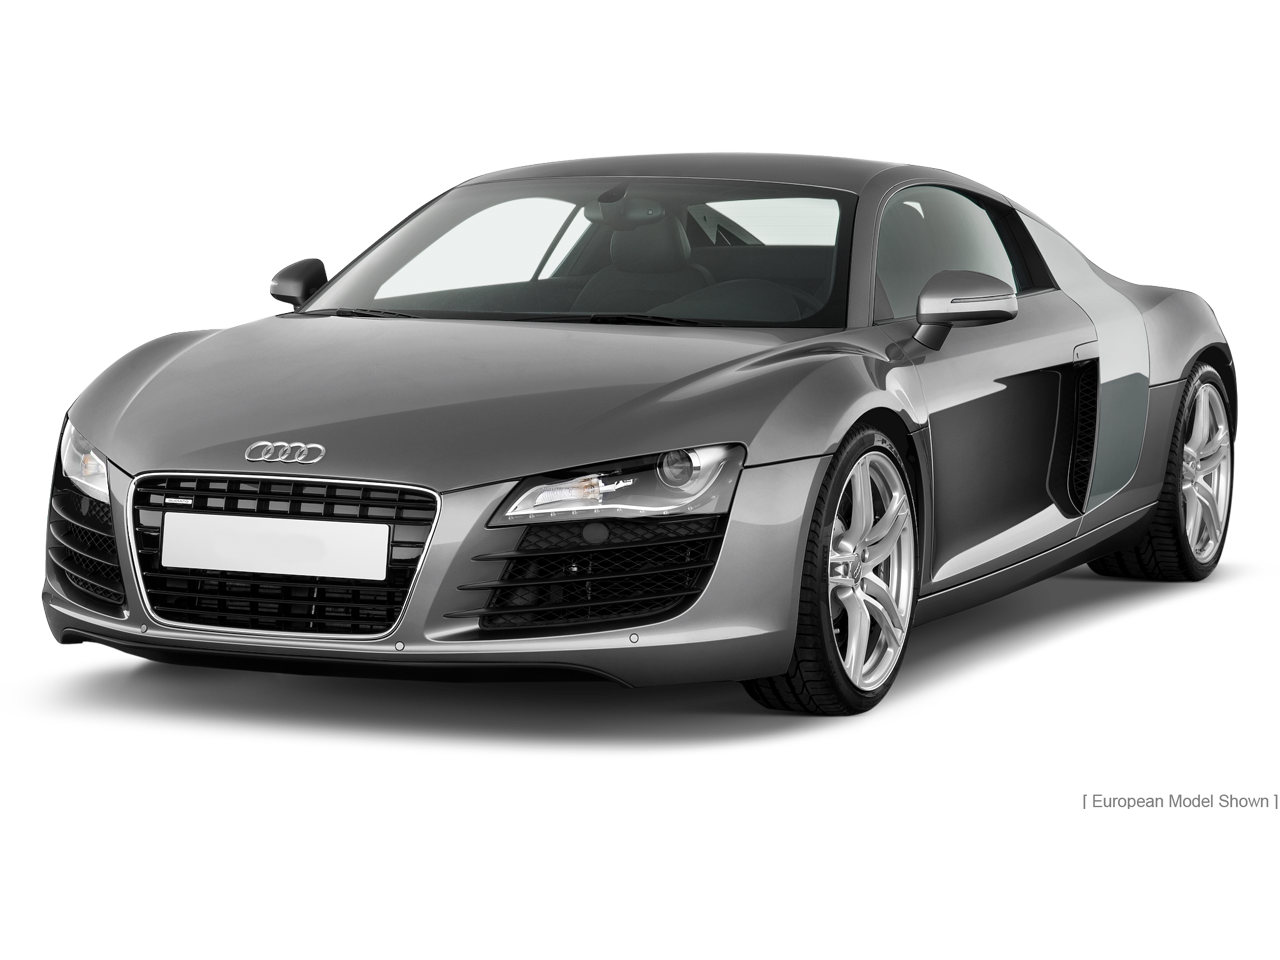P1_: (388, 524, 404, 534)
bbox: (160, 510, 388, 581)
